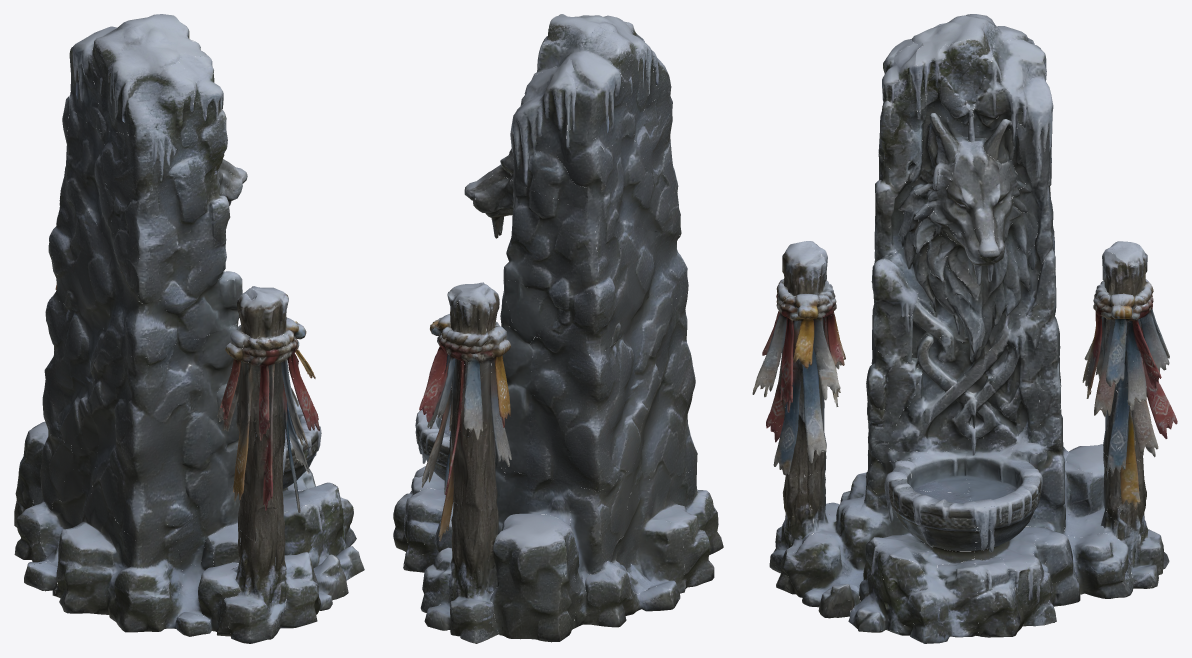
Rendered from ice-shrine-tripo.glb.
The picture shows the model from 3 angles, left to right: view 1: azimuth 30°, elevation 25°; view 2: azimuth 150°, elevation 25°; view 3: azimuth 270°, elevation 25°; orthographic projection. The views are drawn at different scales.
Visible parts, largest first — view 1: tripo_node_7105ede3-572f-4d22-b86e-7ceeabc27584; view 2: tripo_node_7105ede3-572f-4d22-b86e-7ceeabc27584; view 3: tripo_node_7105ede3-572f-4d22-b86e-7ceeabc27584.
Part boxes in pixels (bbox=[...]): tripo_node_7105ede3-572f-4d22-b86e-7ceeabc27584: bbox=[14, 14, 364, 643]; tripo_node_7105ede3-572f-4d22-b86e-7ceeabc27584: bbox=[393, 14, 723, 643]; tripo_node_7105ede3-572f-4d22-b86e-7ceeabc27584: bbox=[752, 14, 1177, 643].
Size of the model in its own units: 0.5559 by 1 by 0.7181.
Materials: 1 (1 with a texture image).
